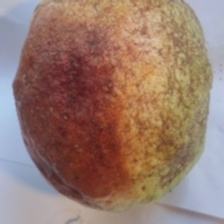guava: (18, 24, 178, 209)
